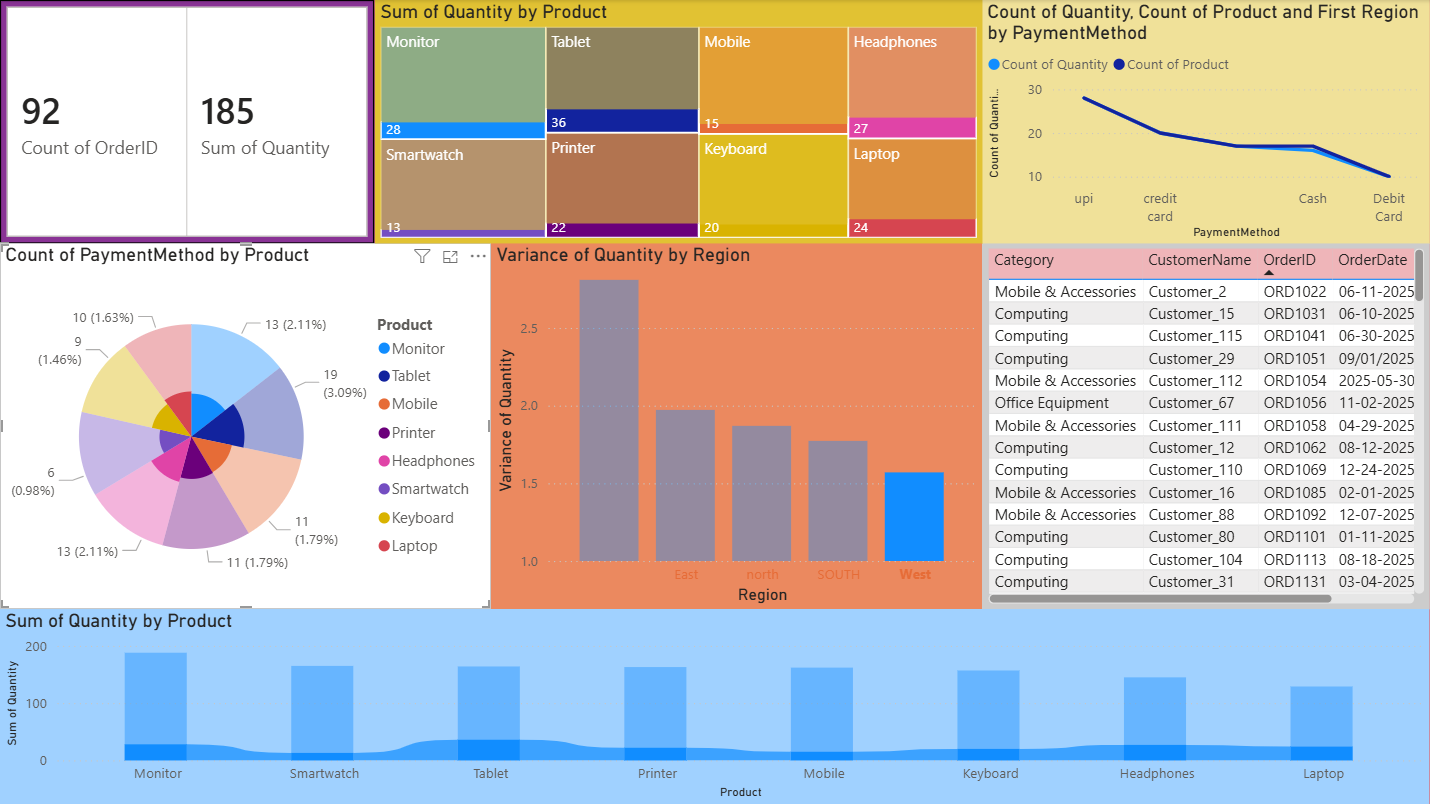

Layout of this report page (visuals, bound fields, positions):
{"tool":"powerbi","page":{"name":"Page 1","canvas":[1280,720],"ordinal":0},"visuals":[{"type":"cardVisual","fields":{"Data":["CountNonNull(retail_sales_raw.OrderID)","Sum(retail_sales_raw.Quantity)"]},"box":[0,0,335.5,218.2],"z":0},{"type":"pieChart","fields":{"Category":["retail_sales_raw.Product"],"Y":["CountNonNull(retail_sales_raw.PaymentMethod)"]},"box":[0,217.9,439.6,327.8],"z":1000},{"type":"lineStackedColumnComboChart","fields":{"Category":["retail_sales_raw.Region"],"Y":["Sum(retail_sales_raw.Quantity)"]},"box":[439.6,217.9,439.6,327.8],"z":2000},{"type":"tableEx","fields":{"Values":["retail_sales_raw.Category","retail_sales_raw.CustomerName","retail_sales_raw.OrderID","retail_sales_raw.OrderDate","retail_sales_raw.Product"]},"box":[879.3,217.9,400.7,327.8],"z":3000},{"type":"lineChart","fields":{"Y":["CountNonNull(retail_sales_raw.Quantity)","CountNonNull(retail_sales_raw.Product)"],"Category":["retail_sales_raw.PaymentMethod"]},"box":[879.1,0,400.9,218.2],"z":4000},{"type":"treemap","fields":{"Values":["Sum(retail_sales_raw.Quantity)"],"Group":["retail_sales_raw.Product"]},"box":[335.6,0,543.7,217.9],"z":5000},{"type":"ribbonChart","fields":{"Category":["retail_sales_raw.Product"],"Y":["Sum(retail_sales_raw.Quantity)"]},"box":[0,545.5,1280,174.5],"z":6000}]}

Visuals, with their boxes in screenshot pixels (x1, y1, x2, y2), scaled from the page's 1280x720 canvas onto the 1430x804 screenshot:
cardVisual - CountNonNull(retail_sales_raw.OrderID) x Sum(retail_sales_raw.Quantity): 0 0 375 244
pieChart - retail_sales_raw.Product x CountNonNull(retail_sales_raw.PaymentMethod): 0 243 491 609
lineStackedColumnComboChart - retail_sales_raw.Region x Sum(retail_sales_raw.Quantity): 491 243 982 609
tableEx - retail_sales_raw.Category x retail_sales_raw.CustomerName: 982 243 1429 609
lineChart - CountNonNull(retail_sales_raw.Quantity) x CountNonNull(retail_sales_raw.Product): 982 0 1429 244
treemap - Sum(retail_sales_raw.Quantity) x retail_sales_raw.Product: 375 0 982 243
ribbonChart - retail_sales_raw.Product x Sum(retail_sales_raw.Quantity): 0 609 1429 803
